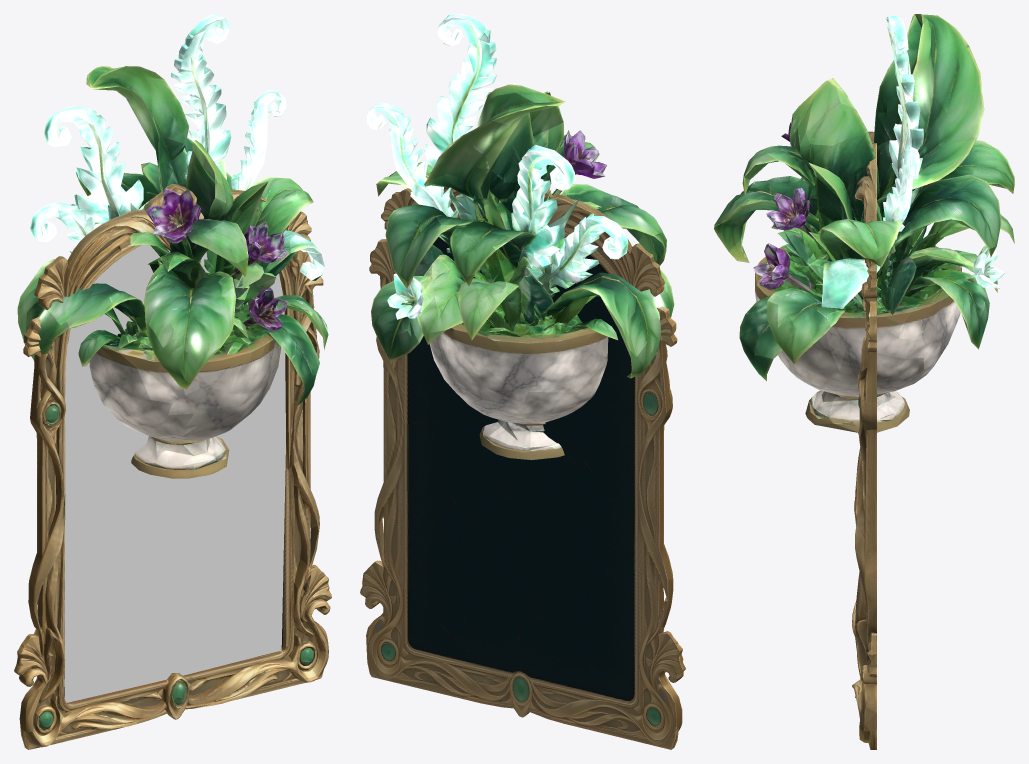
Rendered from museum-decor.glb.
The picture shows the model from 3 angles, left to right: view 1: azimuth 30°, elevation 25°; view 2: azimuth 150°, elevation 25°; view 3: azimuth 270°, elevation 25°; orthographic projection. The views are drawn at different scales.
Parts seen in each view (by area): view 1: decor_crystal_planter, gallery_frame_surface, gallery_frame_mesh; view 2: gallery_frame_mesh, decor_crystal_planter; view 3: decor_crystal_planter, gallery_frame_mesh.
Boxes of the visible parts, box(x1,y1,x2,y2) form: decor_crystal_planter: box(17, 14, 328, 478); gallery_frame_surface: box(64, 244, 285, 702); gallery_frame_mesh: box(14, 184, 331, 749); gallery_frame_mesh: box(360, 187, 685, 749); decor_crystal_planter: box(366, 14, 674, 460); decor_crystal_planter: box(714, 14, 1014, 432); gallery_frame_mesh: box(852, 131, 876, 749).
Size of the model in its own units: 1.12 by 2.3 by 0.9124.
Materials: 3 (2 with a texture image).
